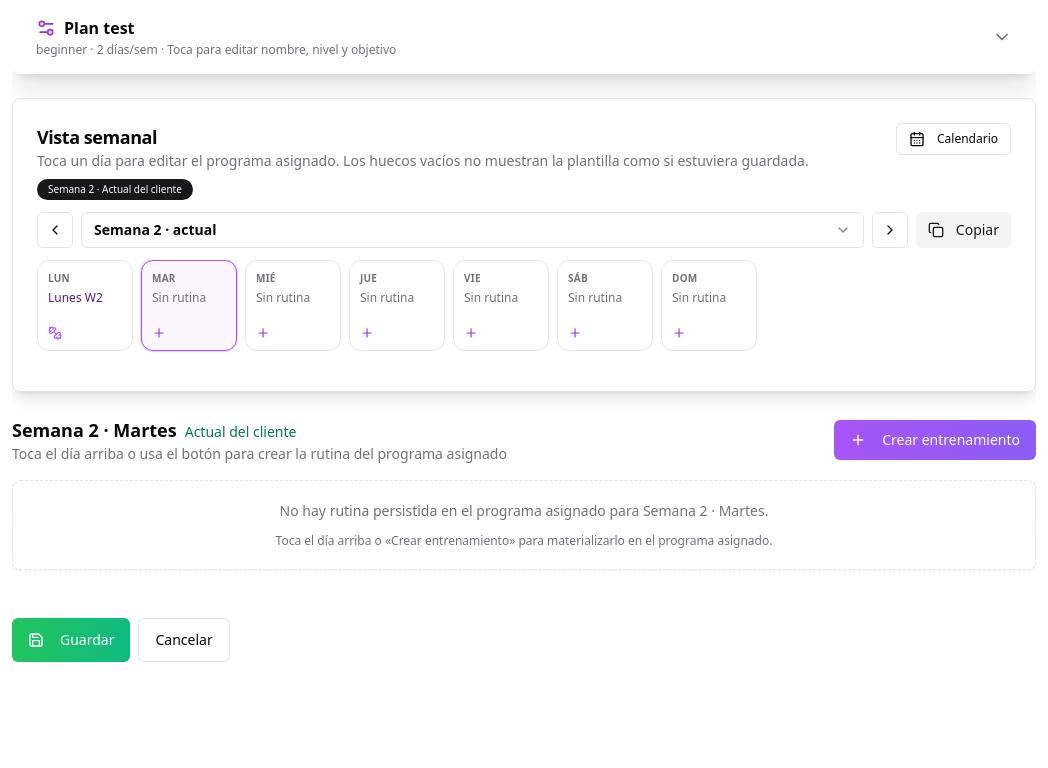
Test case: editor de semanas del programa de usuario › al guardar muestra toast con la semana del PATCH y no descarga el macrociclo
Later steps or results of the test are not shown.
What coordinates should you click on to do the following:
click the button "Lun Lunes W2"
I would click on:
 (85, 306)
Its box is [37,260,133,351].
(page scrolled)
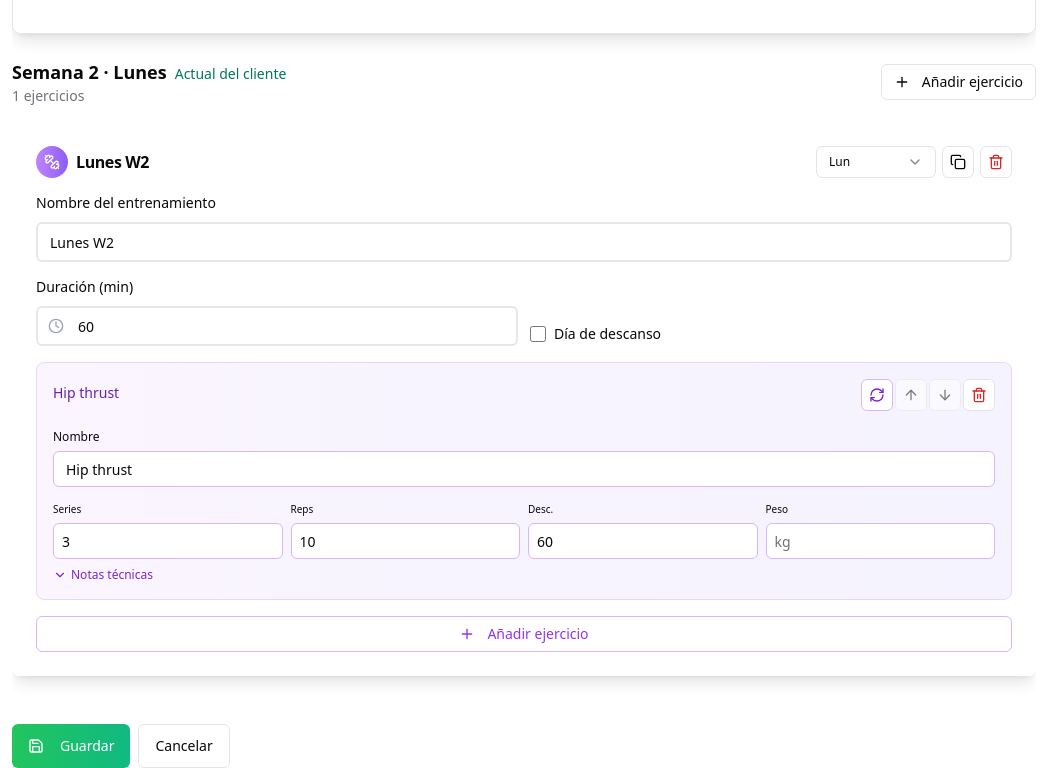
Check: the heading "Hip thrust" is shown, box [53,383,119,402]
